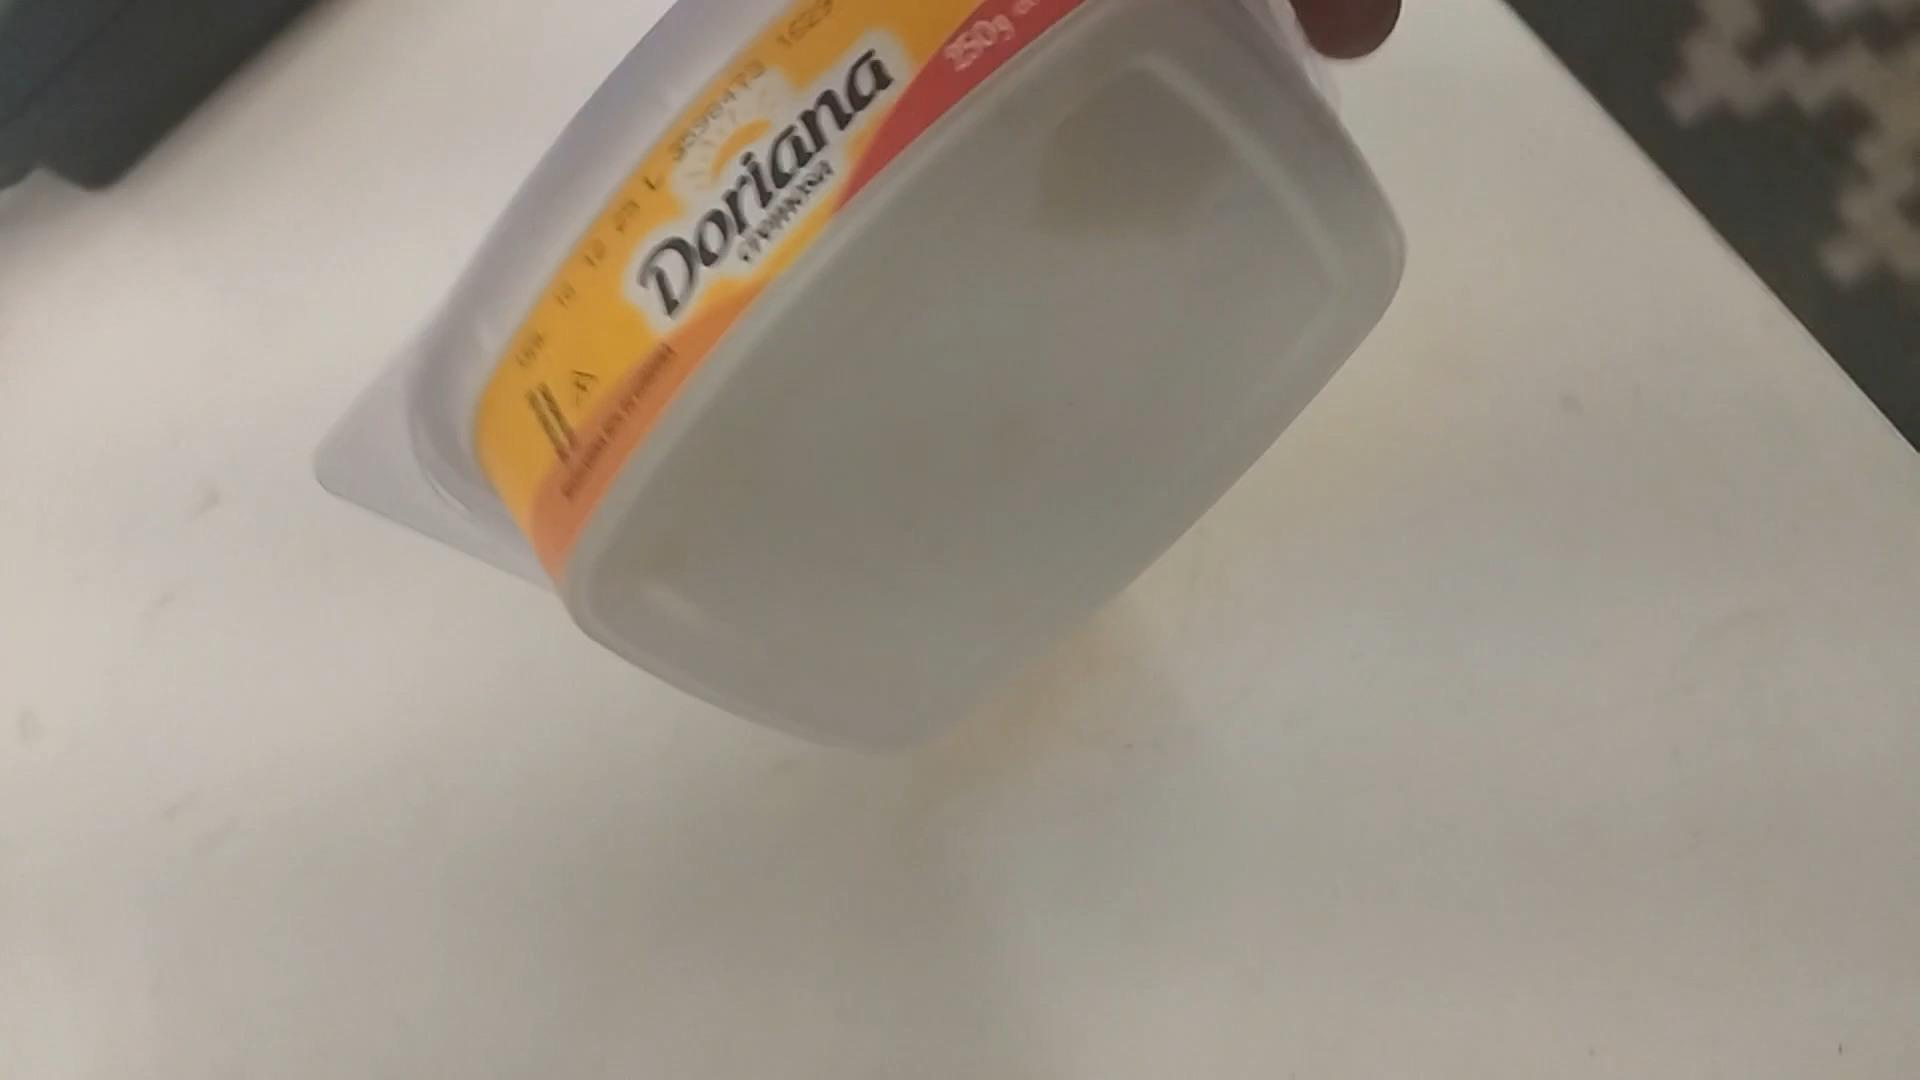butter: (318, 0, 1423, 767)
